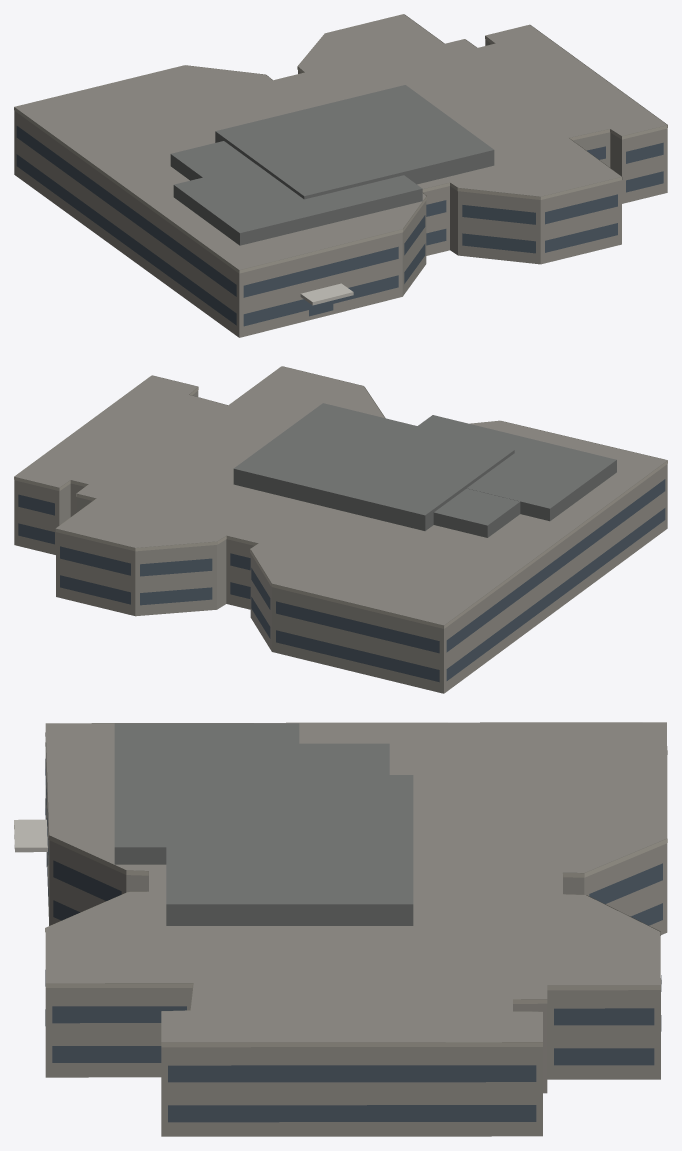
The model's file is ualr-fine-arts.glb.
The picture shows the model from 3 angles, top to bottom: view 1: azimuth 30°, elevation 25°; view 2: azimuth 150°, elevation 25°; view 3: azimuth 270°, elevation 25°; orthographic projection. The views are drawn at different scales.
Visible parts, largest first — view 1: ualr_fine_arts; view 2: ualr_fine_arts; view 3: ualr_fine_arts.
Part boxes in pixels (box(x1,y1,x2,y2)): ualr_fine_arts: box(14, 14, 667, 337); ualr_fine_arts: box(14, 366, 667, 693); ualr_fine_arts: box(14, 722, 667, 1136).
Size of the model in its own units: 69.1 by 11.68 by 59.57.
